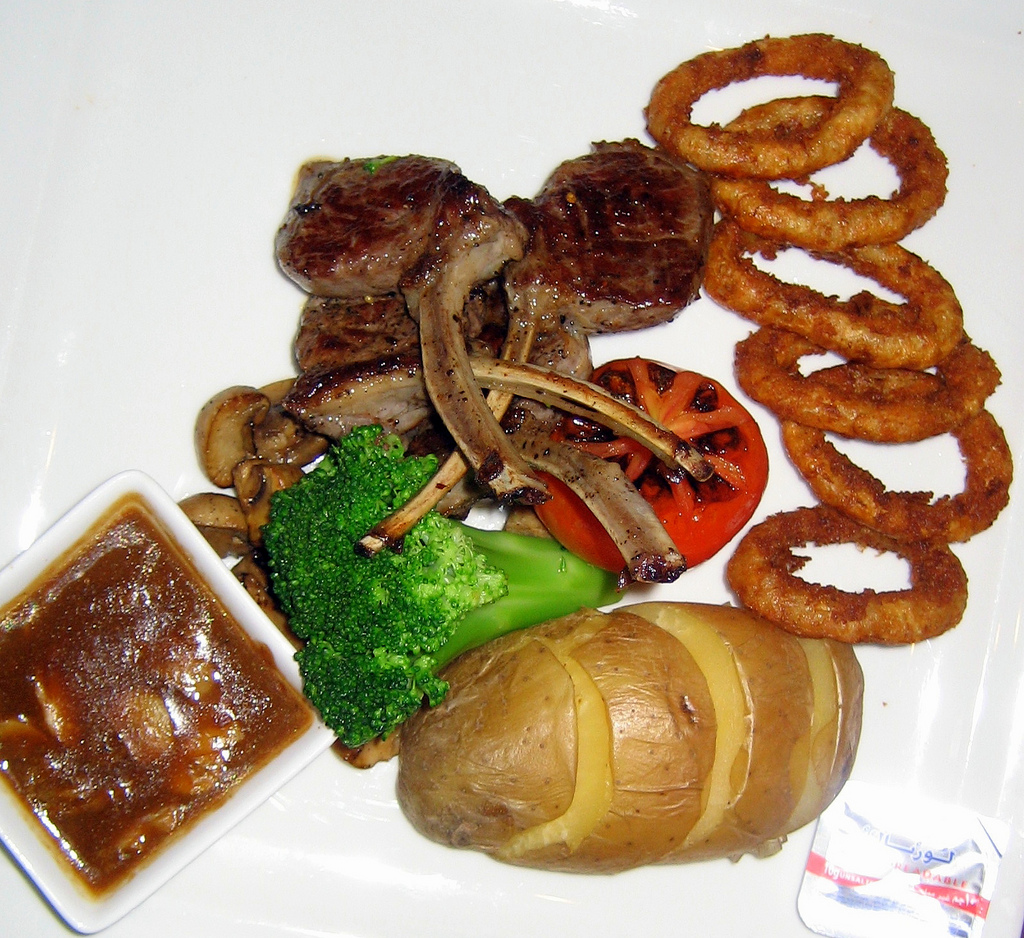boiled potatoes: (393, 617, 887, 868)
